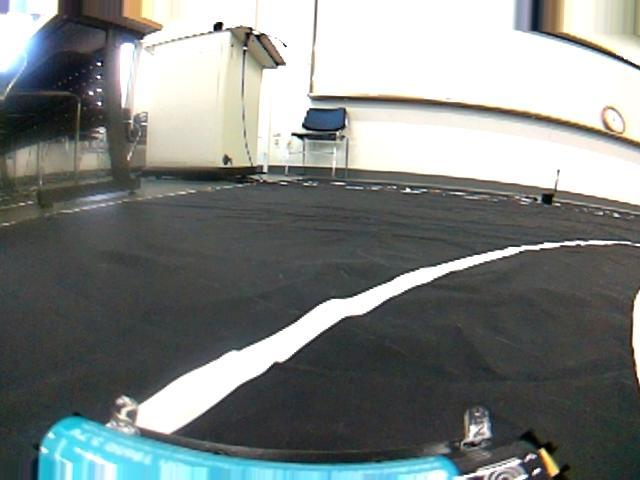right: (0, 212, 640, 480)
